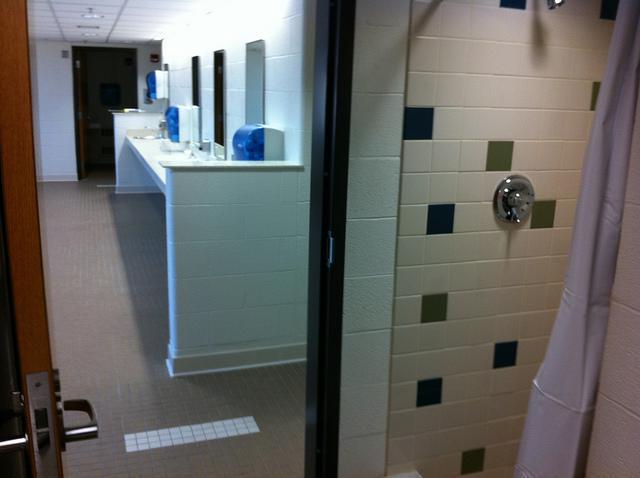Ducha: (329, 0, 640, 477)
Lavamanos: (134, 115, 174, 140), (161, 142, 199, 161)
